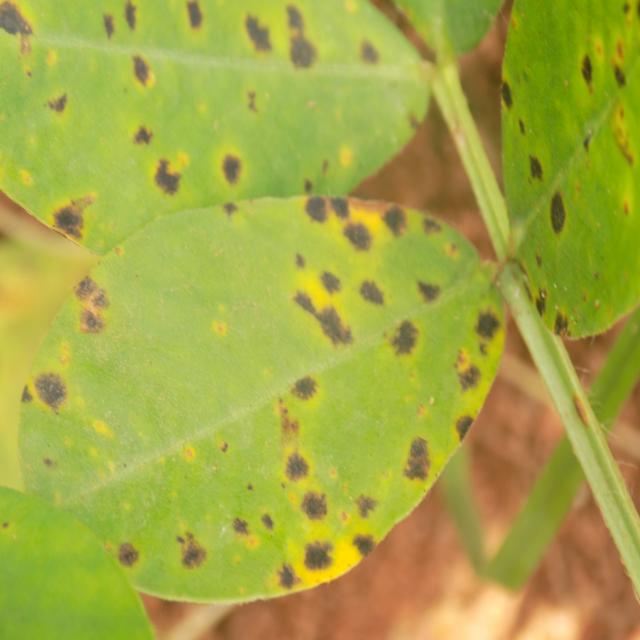Ground nut_tikka leaf spot: (18, 191, 510, 604)
